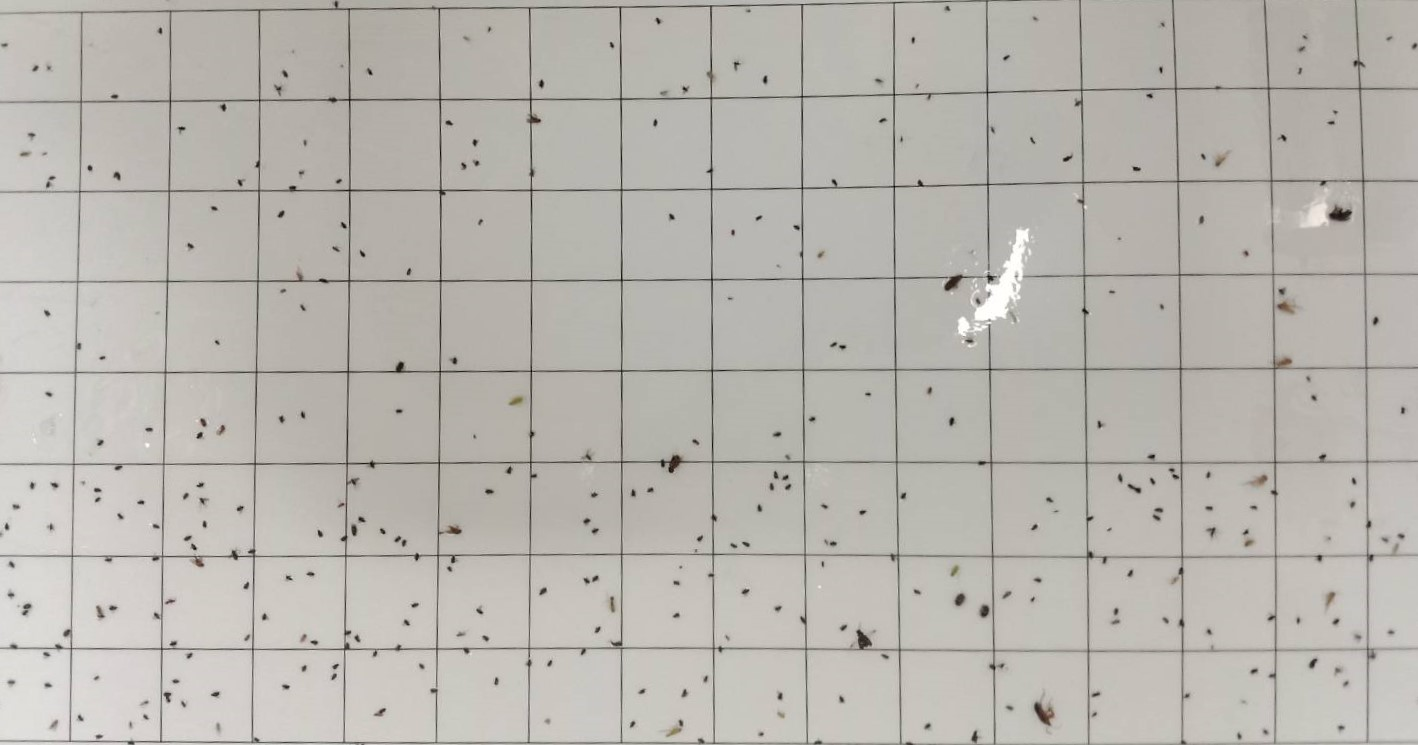fly: (1327, 203, 1354, 225)
test: (1031, 699, 1059, 730), (1242, 472, 1272, 491), (854, 628, 876, 651), (941, 273, 965, 291), (1213, 151, 1232, 169), (667, 454, 683, 475), (442, 522, 463, 537), (1273, 353, 1293, 368), (1278, 301, 1299, 315), (1323, 589, 1339, 607), (666, 724, 685, 739), (507, 392, 524, 408), (189, 554, 206, 570), (1126, 481, 1145, 495), (528, 111, 543, 127), (607, 594, 618, 615), (271, 83, 286, 98), (94, 604, 108, 620), (347, 475, 362, 489), (978, 603, 991, 619), (371, 707, 388, 719), (1000, 587, 1014, 601), (953, 593, 967, 607), (1306, 657, 1321, 670), (949, 564, 962, 579), (968, 729, 981, 744), (48, 717, 61, 731), (1203, 526, 1218, 538), (1243, 538, 1258, 550), (349, 522, 360, 538), (704, 71, 717, 84), (229, 548, 242, 561), (1160, 615, 1174, 627), (294, 269, 305, 284), (731, 60, 744, 72), (776, 709, 788, 722), (298, 631, 310, 644), (162, 691, 175, 703), (1329, 616, 1343, 627), (584, 449, 595, 463), (395, 359, 406, 373), (19, 148, 33, 159), (1332, 665, 1344, 677), (537, 585, 549, 597), (280, 68, 292, 80), (537, 77, 546, 93), (1062, 153, 1075, 164), (659, 87, 670, 100), (1265, 612, 1278, 623), (1175, 565, 1186, 578), (1148, 475, 1159, 488), (449, 553, 460, 566), (151, 610, 162, 623), (1197, 214, 1207, 228), (740, 539, 754, 549), (277, 208, 287, 222), (1318, 451, 1329, 463), (1369, 649, 1380, 661), (1154, 505, 1166, 516), (1030, 521, 1041, 533), (310, 637, 321, 649), (340, 533, 351, 545), (336, 500, 348, 511), (297, 410, 309, 421), (276, 414, 288, 425), (5, 589, 17, 600), (198, 416, 209, 428), (761, 74, 771, 87), (879, 651, 892, 661), (368, 459, 378, 472), (216, 424, 226, 437), (1278, 286, 1289, 297), (828, 339, 839, 350), (1115, 473, 1126, 484), (776, 691, 787, 702), (582, 576, 593, 587), (481, 633, 492, 644), (392, 642, 403, 653), (582, 515, 593, 526), (259, 611, 270, 622), (95, 437, 106, 448), (185, 240, 196, 251), (112, 170, 123, 181), (328, 95, 339, 106), (30, 63, 41, 74), (330, 0, 341, 11), (1110, 617, 1122, 627), (838, 623, 850, 633), (798, 615, 808, 627), (784, 482, 794, 494), (456, 628, 468, 638), (444, 564, 456, 574), (316, 528, 326, 540), (7, 559, 19, 569), (198, 496, 210, 506), (181, 490, 191, 502), (93, 485, 105, 495), (236, 177, 246, 189), (219, 101, 229, 113), (1031, 576, 1044, 585), (610, 639, 623, 648), (343, 640, 352, 653), (164, 596, 177, 605), (1199, 151, 1209, 162), (1073, 98, 1083, 109), (1028, 135, 1038, 146), (816, 250, 827, 260), (985, 272, 995, 283), (666, 212, 677, 222), (1364, 518, 1374, 529), (1315, 553, 1325, 564), (1294, 616, 1304, 627), (1206, 626, 1216, 637), (1177, 618, 1187, 629), (1249, 503, 1260, 513), (1085, 513, 1095, 524), (912, 586, 923, 596), (1004, 703, 1015, 713), (772, 603, 783, 613), (768, 481, 778, 492), (658, 459, 668, 470), (448, 356, 459, 366), (590, 573, 600, 584), (578, 647, 589, 657), (402, 618, 413, 628), (429, 686, 440, 696), (352, 634, 363, 644), (305, 569, 316, 579), (284, 573, 295, 583), (629, 488, 640, 498), (590, 490, 600, 501), (484, 487, 495, 497), (235, 504, 246, 514), (61, 627, 71, 638), (54, 641, 64, 652), (195, 430, 206, 440), (44, 389, 54, 400), (318, 276, 329, 286), (330, 244, 341, 254), (365, 66, 375, 77), (445, 118, 456, 128), (459, 161, 470, 171), (485, 25, 495, 36), (1372, 315, 1381, 327), (1157, 64, 1166, 76), (1131, 165, 1143, 174), (916, 177, 925, 189), (974, 295, 983, 307), (964, 337, 976, 346), (948, 416, 957, 428), (1268, 672, 1280, 681), (1235, 731, 1244, 743), (1125, 569, 1137, 578), (1268, 488, 1280, 497), (1086, 549, 1095, 561), (837, 694, 846, 706), (356, 515, 368, 524), (529, 429, 538, 441), (210, 690, 222, 699), (169, 640, 181, 649), (6, 677, 18, 686), (3, 521, 12, 533), (287, 184, 299, 193), (254, 158, 263, 170), (177, 124, 189, 133), (461, 35, 473, 44), (1351, 475, 1359, 488), (1248, 666, 1261, 674), (1090, 691, 1103, 699), (21, 602, 34, 610), (1301, 32, 1311, 42), (792, 223, 802, 233), (681, 85, 691, 95), (863, 390, 873, 400), (888, 553, 898, 563), (1183, 691, 1193, 701), (1111, 607, 1121, 617), (988, 663, 998, 673), (772, 429, 782, 439), (701, 674, 711, 684), (637, 686, 647, 696), (627, 720, 637, 730), (593, 625, 603, 635), (463, 646, 473, 656), (248, 546, 258, 556), (252, 735, 262, 745), (183, 533, 193, 543), (114, 463, 124, 473), (145, 424, 155, 434), (42, 309, 52, 319), (339, 220, 349, 230), (210, 204, 220, 214), (471, 138, 481, 148), (44, 63, 54, 73), (1399, 405, 1408, 416), (1080, 307, 1091, 316), (1000, 53, 1011, 62), (1076, 197, 1087, 206), (653, 16, 662, 27), (1386, 627, 1397, 636), (1341, 679, 1352, 688), (1337, 723, 1346, 734), (1204, 504, 1215, 513), (1151, 513, 1162, 522), (1045, 494, 1054, 505), (924, 721, 933, 732), (741, 587, 750, 598), (780, 473, 791, 482), (730, 540, 741, 549), (680, 688, 689, 699), (475, 606, 484, 617), (417, 662, 426, 673), (342, 628, 353, 637), (413, 551, 422, 562), (393, 534, 402, 545), (646, 485, 655, 496), (280, 682, 291, 691), (185, 650, 194, 661), (12, 502, 21, 513), (104, 555, 115, 564), (98, 353, 109, 362), (528, 167, 537, 178), (473, 158, 482, 169), (109, 92, 120, 101), (393, 407, 405, 415), (242, 579, 250, 591), (405, 266, 413, 278), (157, 24, 165, 36), (1297, 44, 1306, 54), (1279, 133, 1289, 142), (1242, 248, 1251, 258), (989, 125, 998, 135), (878, 116, 888, 125), (754, 214, 764, 223), (744, 7, 754, 16), (607, 40, 616, 50), (858, 508, 868, 517), (1348, 498, 1357, 508), (1368, 552, 1377, 562), (1354, 632, 1363, 642), (1261, 726, 1270, 736), (1204, 470, 1213, 480), (1325, 534, 1334, 544), (1167, 466, 1177, 475), (1029, 594, 1038, 604), (755, 503, 764, 513), (691, 438, 700, 448), (696, 534, 706, 543), (410, 601, 420, 610), (300, 664, 309, 674), (332, 662, 342, 671), (377, 527, 387, 536), (529, 472, 539, 481), (242, 633, 251, 643), (141, 714, 151, 723), (76, 714, 85, 724), (42, 650, 52, 659), (190, 543, 199, 553), (299, 303, 308, 313), (44, 180, 54, 189), (476, 216, 485, 226), (0, 39, 9, 49), (1297, 66, 1305, 77), (1310, 392, 1318, 403), (1096, 419, 1104, 430), (651, 117, 659, 128), (772, 470, 780, 481), (710, 513, 718, 524), (492, 675, 500, 686), (400, 537, 408, 548), (506, 466, 514, 477), (215, 721, 223, 732), (171, 677, 182, 685), (9, 642, 20, 650), (48, 521, 56, 532), (201, 519, 209, 530), (359, 248, 367, 259), (49, 481, 61, 488), (1320, 178, 1329, 187), (831, 177, 840, 186), (1148, 452, 1157, 461), (1381, 534, 1390, 543), (1172, 473, 1181, 482), (1105, 525, 1114, 534), (697, 736, 706, 745), (525, 658, 534, 667), (180, 700, 189, 709), (92, 674, 101, 683), (44, 681, 53, 690), (116, 511, 125, 520), (74, 342, 83, 351), (28, 130, 37, 139), (1385, 34, 1395, 42), (1359, 59, 1367, 69), (1107, 288, 1117, 296), (925, 92, 933, 102), (1327, 118, 1337, 126), (837, 343, 847, 351), (977, 458, 987, 466), (901, 491, 909, 501), (1101, 555, 1109, 565), (672, 579, 682, 587), (677, 717, 685, 727), (546, 658, 554, 668), (331, 672, 339, 682), (544, 716, 552, 726), (108, 603, 118, 611), (28, 481, 36, 491), (20, 609, 30, 617), (196, 481, 206, 489), (136, 498, 146, 506), (214, 337, 222, 347), (279, 287, 289, 295), (86, 164, 94, 174), (48, 174, 58, 182), (438, 189, 448, 197), (1411, 41, 1418, 52), (1353, 58, 1360, 69), (926, 386, 933, 397), (1396, 532, 1407, 539), (1331, 108, 1340, 116), (1158, 303, 1167, 311), (1305, 375, 1313, 384), (1213, 84, 1222, 92), (1145, 92, 1154, 100), (1031, 14, 1039, 23), (943, 4, 951, 13), (875, 77, 884, 85), (725, 295, 734, 303), (706, 167, 715, 175), (1241, 528, 1250, 536), (998, 661, 1006, 670), (783, 453, 792, 461), (723, 634, 732, 642), (127, 721, 135, 730), (151, 554, 160, 562), (93, 496, 102, 504), (335, 176, 343, 185), (298, 168, 306, 177), (807, 416, 817, 423), (820, 503, 830, 510), (828, 540, 838, 547), (672, 611, 682, 618), (812, 738, 822, 745), (141, 699, 151, 706), (94, 732, 104, 739), (151, 522, 161, 529), (302, 138, 309, 148), (1159, 20, 1167, 28), (909, 36, 917, 44), (729, 229, 737, 237), (707, 571, 715, 579), (717, 645, 725, 653), (371, 650, 379, 658), (915, 82, 922, 91), (798, 250, 805, 259), (820, 559, 827, 568), (1091, 711, 1100, 718), (1179, 739, 1189, 745), (1116, 235, 1124, 242), (758, 731, 766, 738), (591, 527, 598, 535), (41, 150, 48, 158), (898, 135, 905, 142), (1053, 508, 1060, 515), (472, 432, 478, 440), (127, 739, 135, 745), (339, 62, 345, 69), (693, 547, 699, 553), (678, 564, 684, 570)
